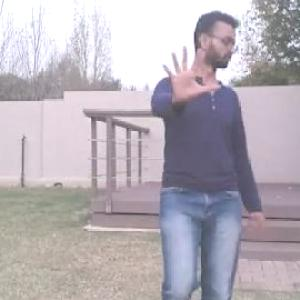follow_hand: (157, 34, 220, 106)
